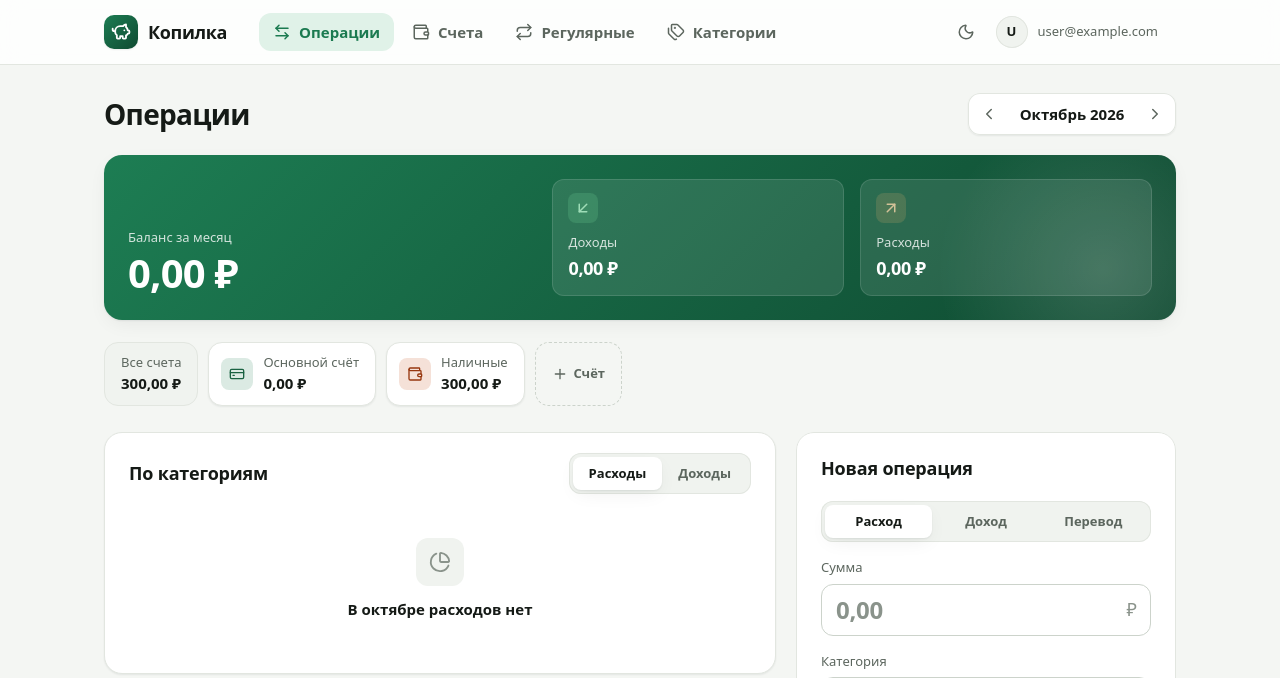
TransactionList › shows a transfer between accounts, with a sign only from one of them
// From the cash account it is money in.
Click the button "Наличные 300,00 ₽": (455, 374) x1=386 y1=342 x2=525 y2=406
(page scrolled)
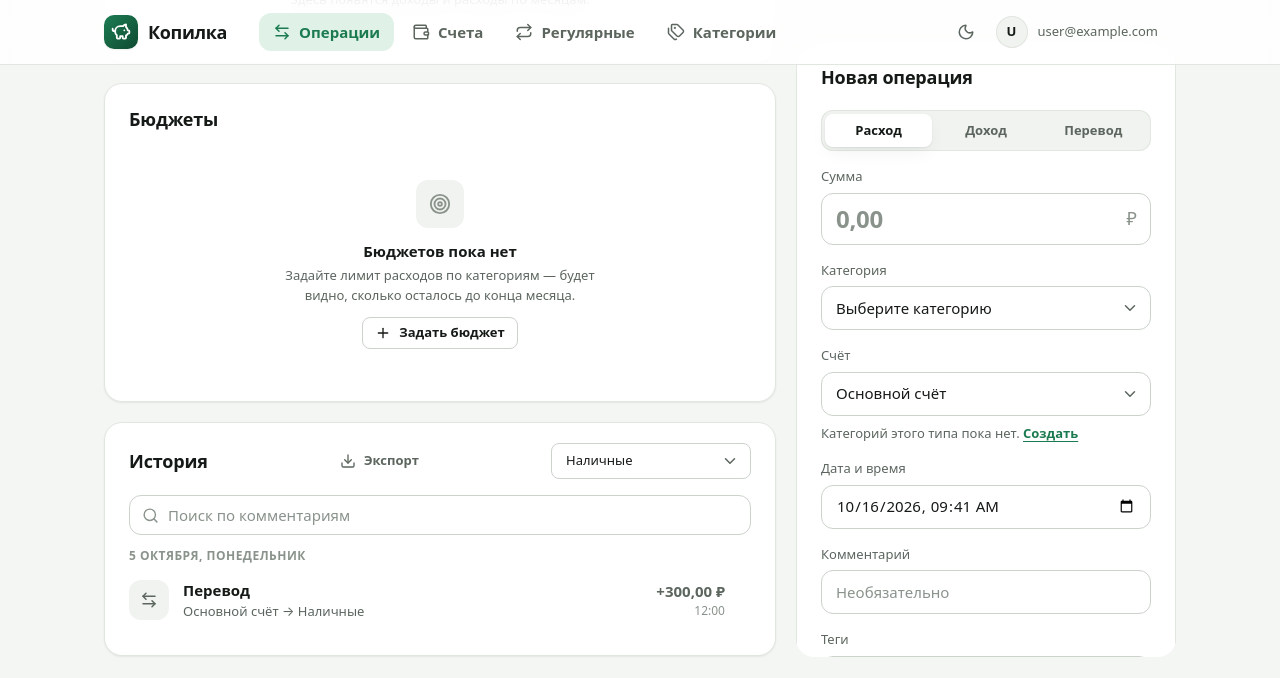
Expected: the button "Перевод Основной счёт → Наличные +300,00 ₽ 12:00" is shown, x1=117 y1=569 x2=763 y2=631
